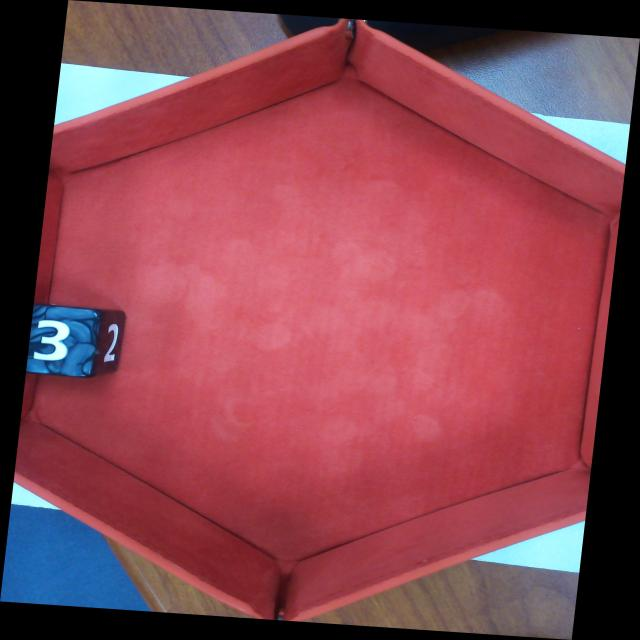dice: (23, 305, 97, 379)
